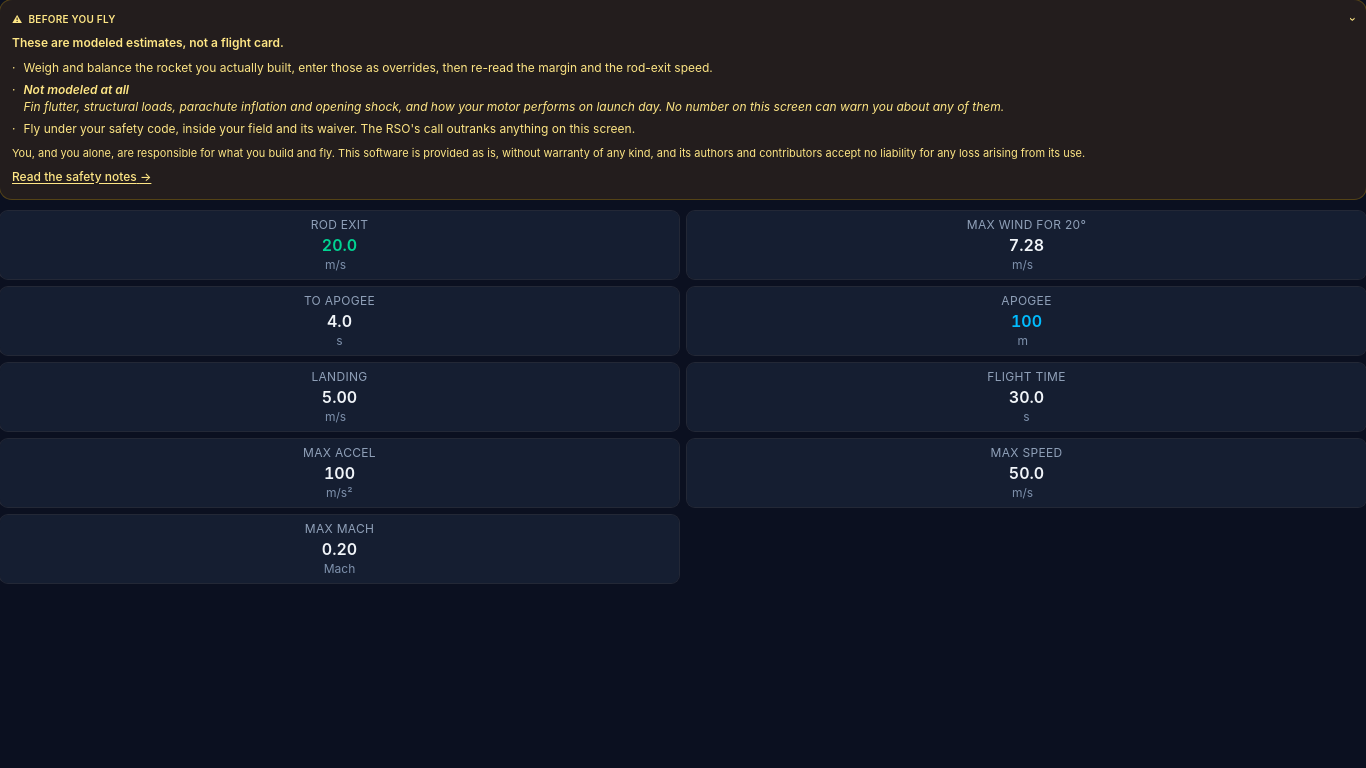
Test: SafetyCard folding › asks for an acknowledgment before folding, rather than folding silently
Click the button "⚠ Before you fly ›" at (72, 19), box [12,12,1354,27]
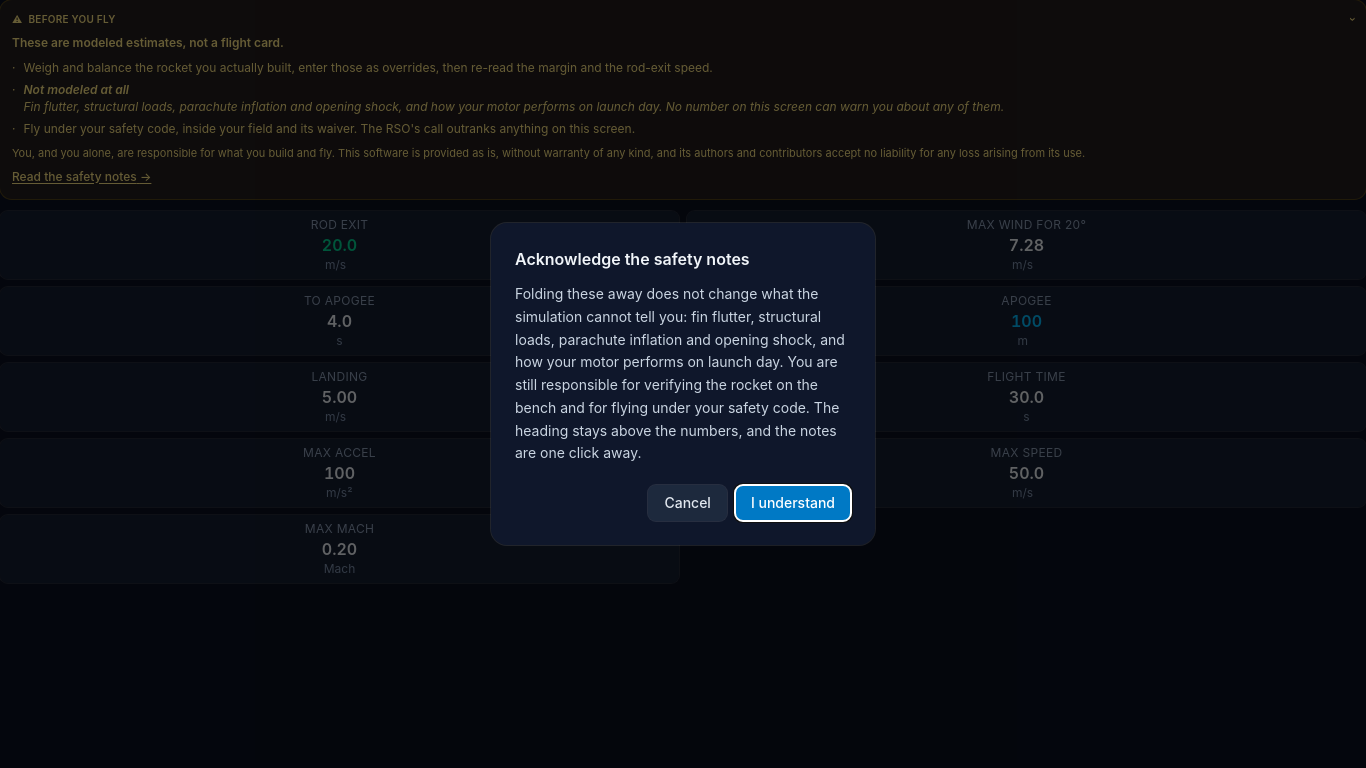
Expected: the text "Not modeled at all" is shown, [24,82,129,97]
Expected: the dialog "Acknowledge the safety notes" is shown, [491,223,875,545]
